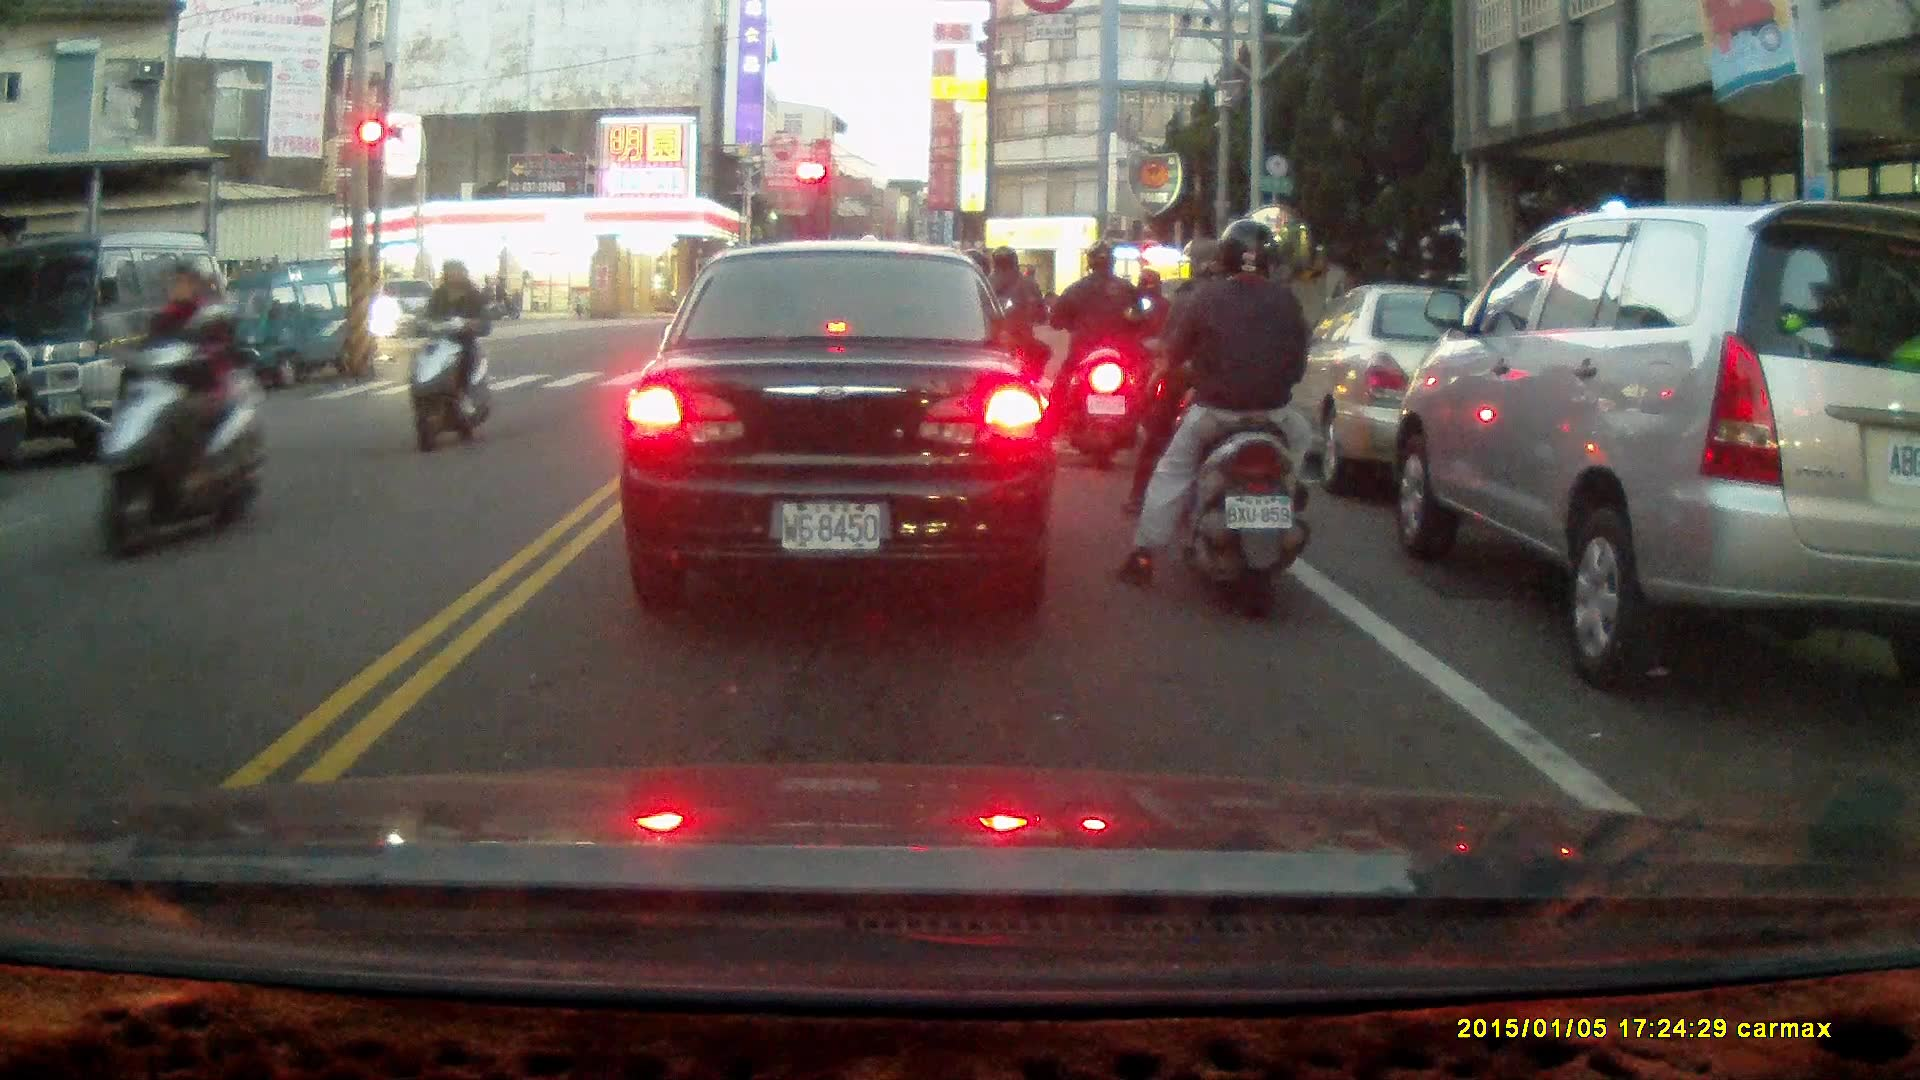pedestrian: (483, 272, 507, 316)
rider: (1107, 215, 1314, 624), (89, 258, 261, 564), (1127, 231, 1256, 538), (1048, 243, 1141, 469), (399, 254, 485, 456), (964, 245, 1050, 447), (1133, 268, 1203, 449)
vehicle: (1389, 195, 1920, 685), (617, 243, 1061, 606), (1269, 282, 1544, 498), (1, 234, 239, 458), (194, 255, 381, 393), (372, 277, 451, 343)
